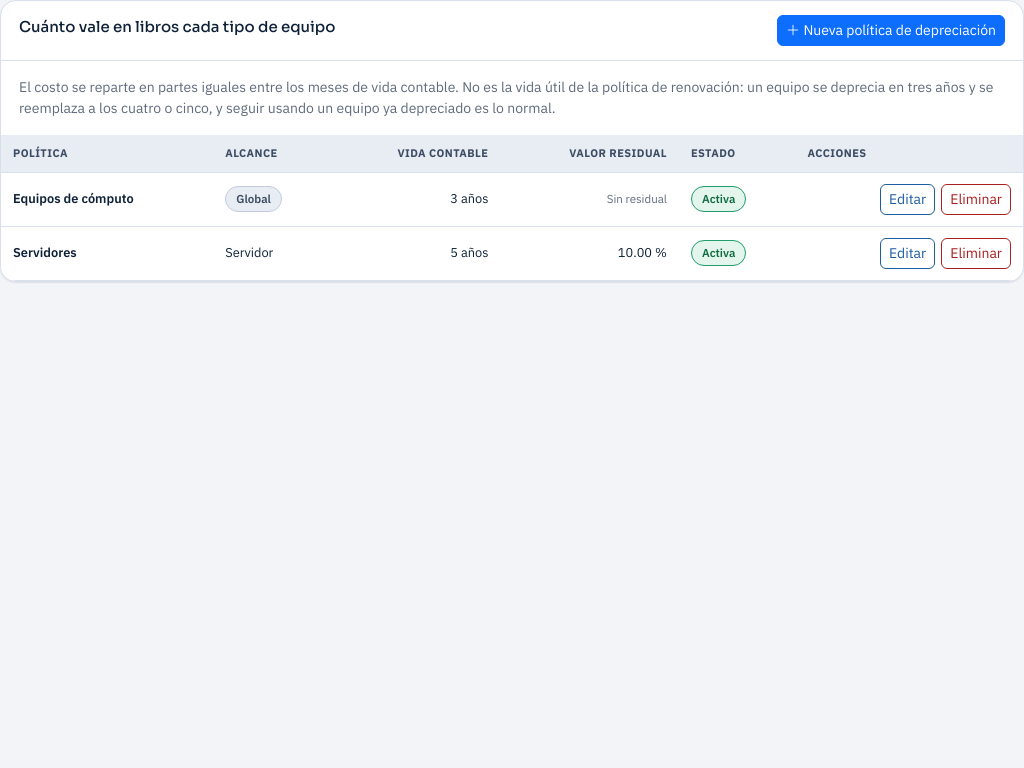
Test: Al definir una política de depreciación › un residual del cien por ciento tampoco
Click the button "Nueva política de depreciación".
click(891, 30)  # box [777,15,1005,46]
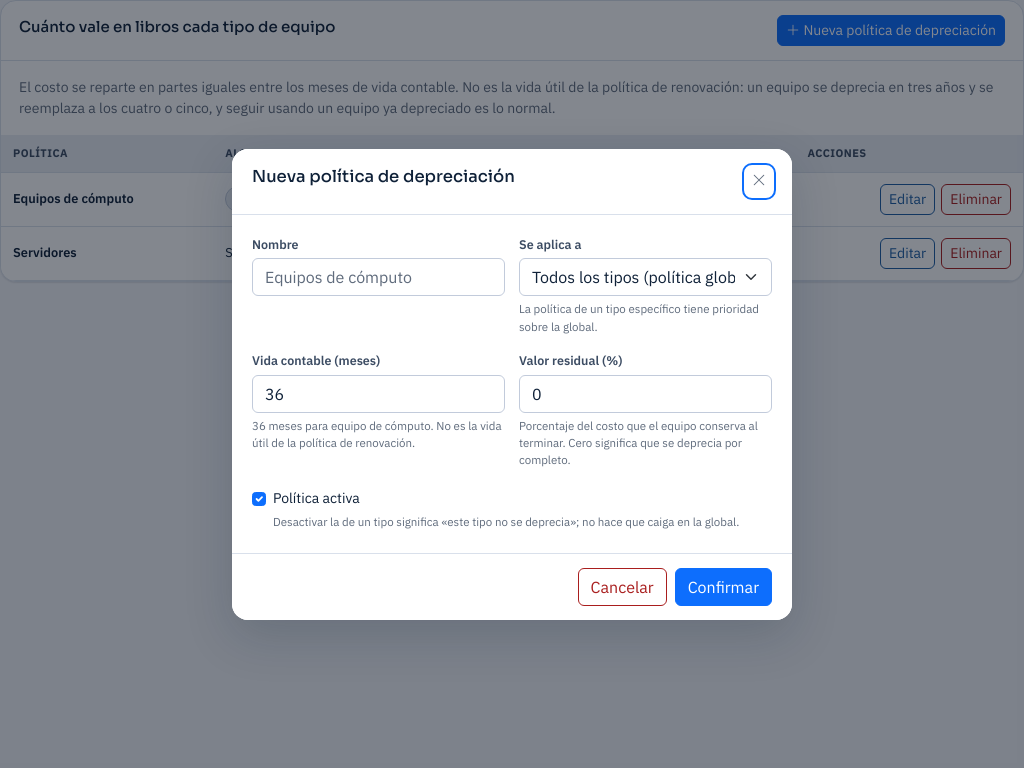
Replace the text in the number field labelled "Valor residual (%)" with "100" at (646, 394), box [519,374,772,412]
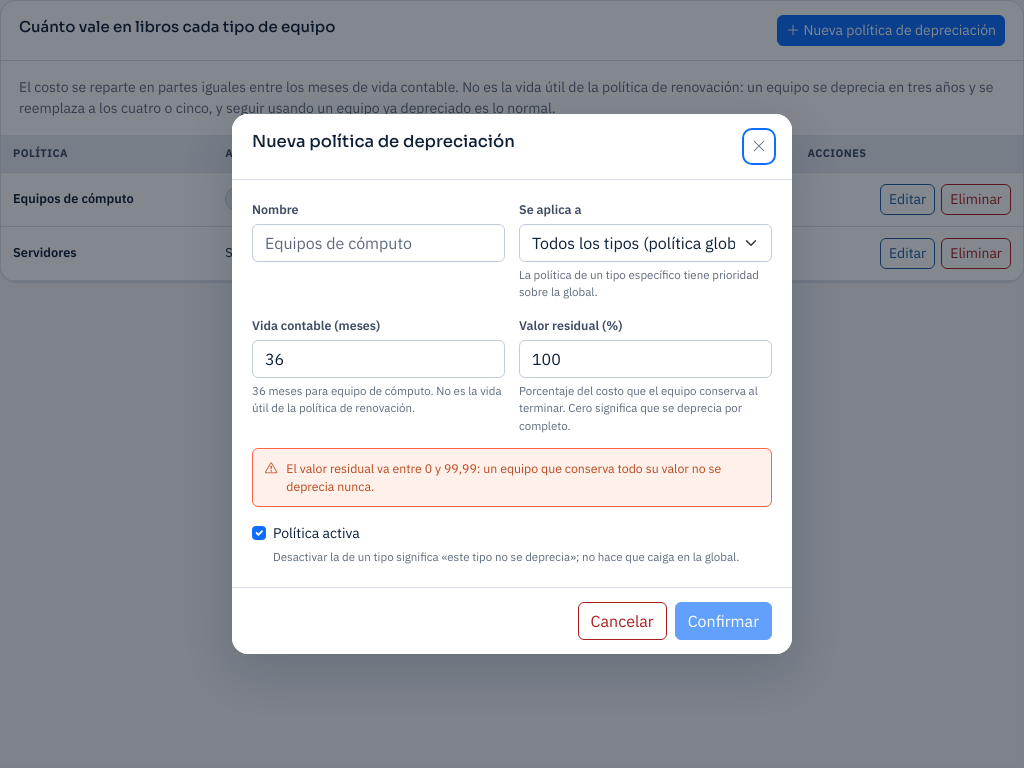
Expected: the text "entre 0 y 99,99" is shown, [286,460,721,494]
Expected: the button "Confirmar" is disabled, [675,602,772,640]
